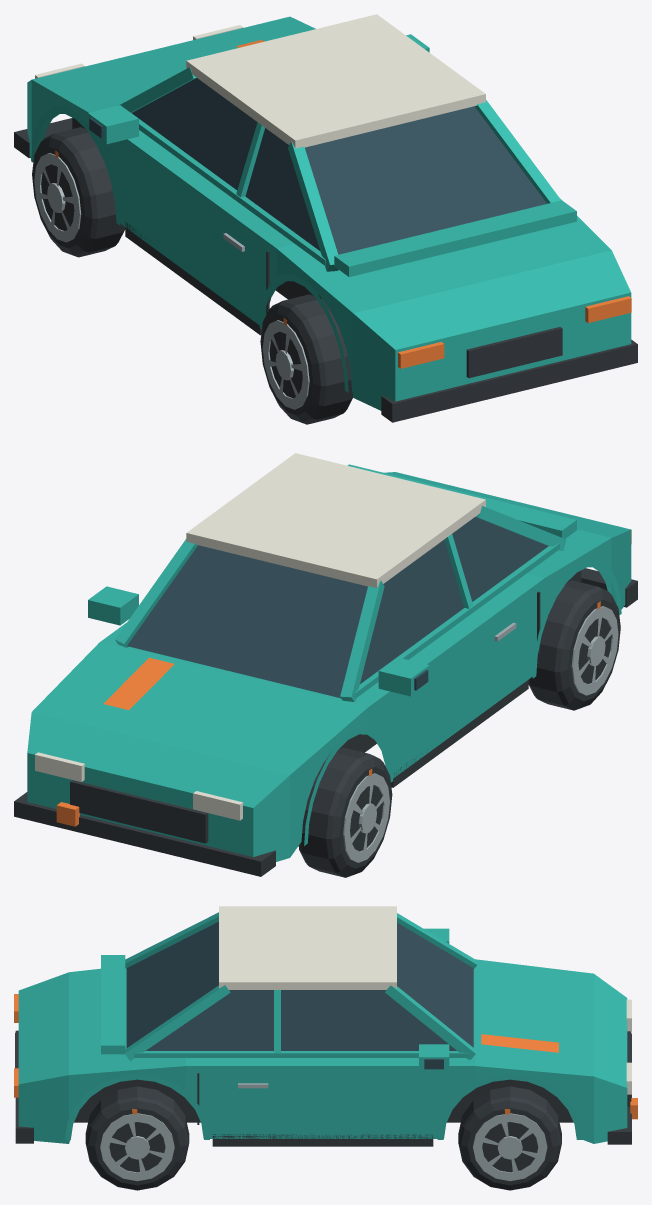
Rendered from street_car_v2.glb.
3 renders of one model, top to bottom at view 1: azimuth 30°, elevation 25°; view 2: azimuth 150°, elevation 25°; view 3: azimuth 270°, elevation 25°, orthographic. The views are drawn at different scales.
Parts seen in each view (by area): view 1: Body, Wheel_Rear_Left, Wheel_Front_Left; view 2: Body, Wheel_Front_Left, Wheel_Rear_Left; view 3: Body, Wheel_Rear_Right, Wheel_Front_Right, Chassis_Visual.
Boxes of the visible parts, x1,y1,x2,y2 form: Body: (14, 14, 637, 422); Wheel_Rear_Left: (260, 294, 353, 424); Wheel_Front_Left: (32, 127, 125, 257); Body: (14, 453, 637, 876); Wheel_Front_Left: (298, 747, 392, 877); Wheel_Rear_Left: (528, 580, 620, 710); Body: (14, 906, 637, 1146); Wheel_Rear_Right: (85, 1086, 189, 1190); Wheel_Front_Right: (458, 1086, 561, 1190); Chassis_Visual: (74, 1079, 573, 1122).
Size of the model in its own units: 2.03 by 1.37 by 4.1.
